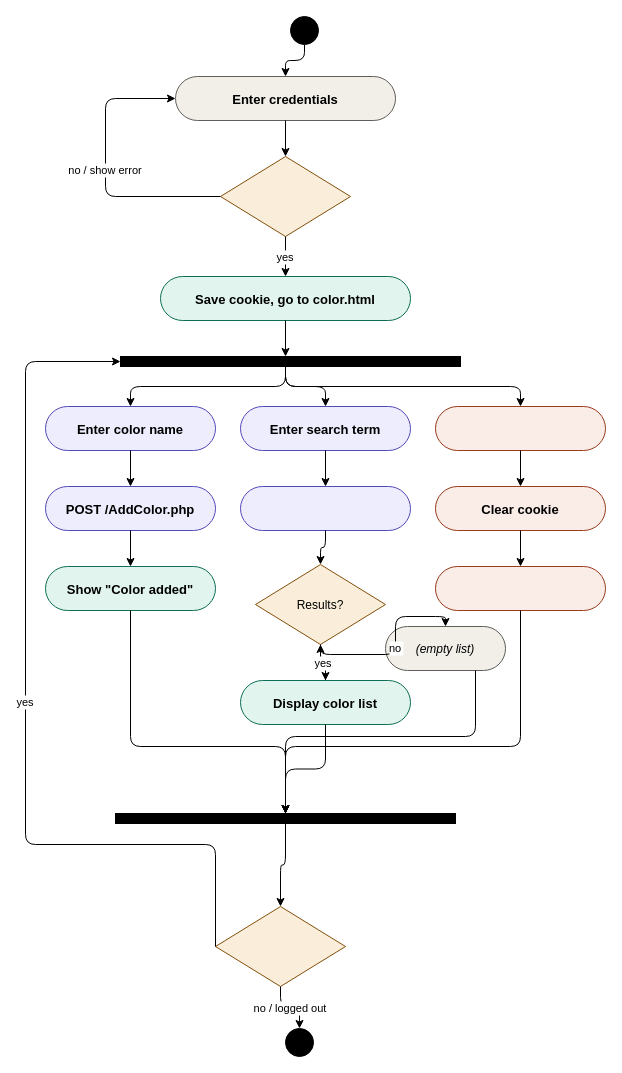
Image size: 622x1073. Some labels were removed from this diagram. The shapes that lost their labels are listed below. From the top down, each one's centre as x and y in pixels, then its label:
At (285,196): "Valid login?".
At (520,428): "Click log out".
At (325,508): "POST /SearchColors.php".
At (520,588): "Redirect to index.html".
At (280,946): "Continue session?".
